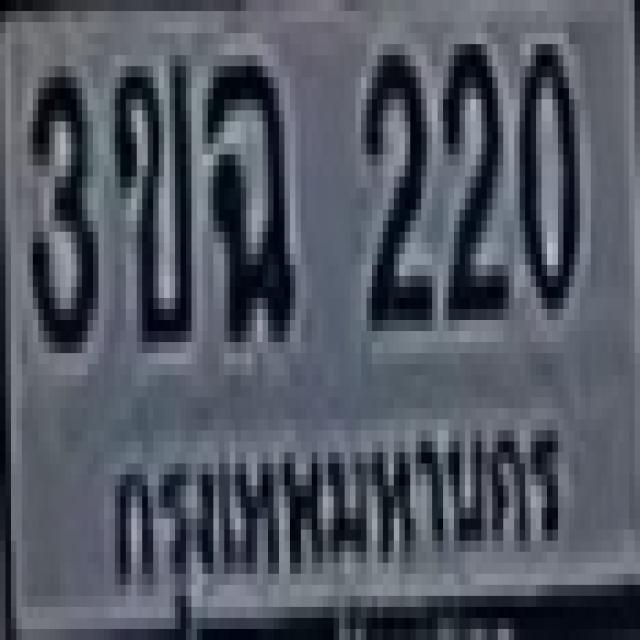-: (202, 55, 290, 331), (109, 50, 186, 336)
0: (514, 39, 574, 304)
2: (361, 38, 427, 314), (440, 33, 500, 309)
3: (27, 55, 93, 342)
